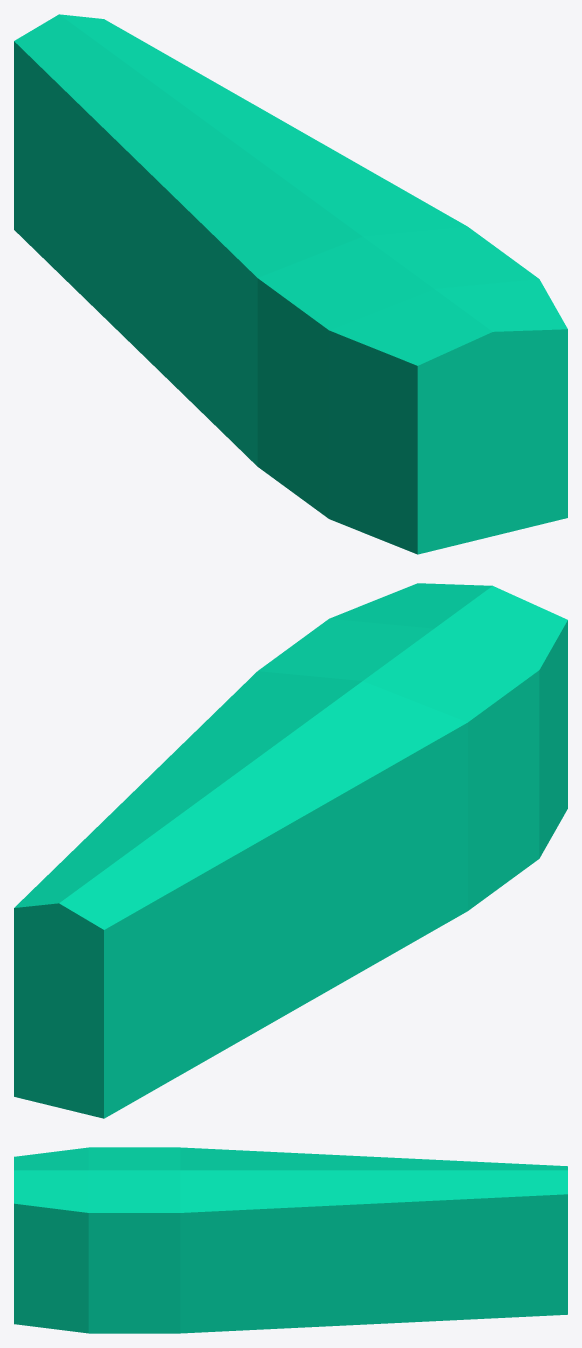
Rendered from proj_1.glb.
The picture shows the model from 3 angles, top to bottom: view 1: azimuth 30°, elevation 25°; view 2: azimuth 150°, elevation 25°; view 3: azimuth 270°, elevation 25°; orthographic projection. The views are drawn at different scales.
Visible parts, largest first — view 1: Cube; view 2: Cube; view 3: Cube.
Part boxes in pixels (x1=…): Cube: x1=14, y1=14, x2=567, y2=554; Cube: x1=14, y1=583, x2=567, y2=1118; Cube: x1=14, y1=1147, x2=567, y2=1333.
Bounding box in the file's own units: 1.4 × 1.3 × 5.
